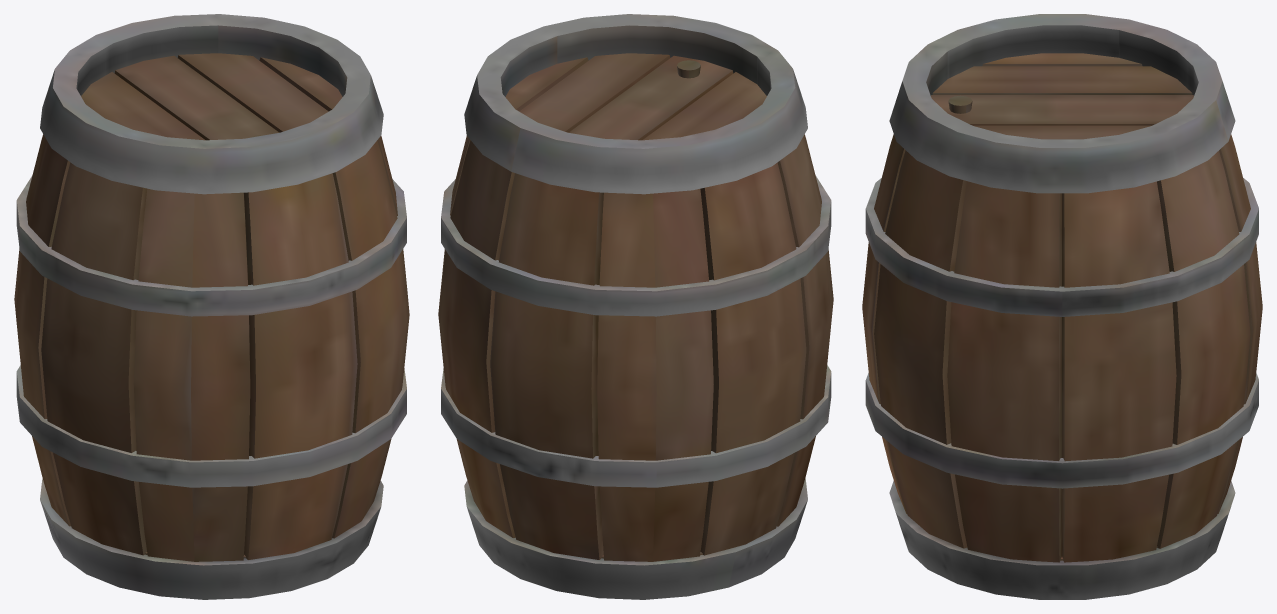
The model's file is SM_cask_01_508124.glb.
3 views of the same model, side by side, from view 1: azimuth 30°, elevation 25°; view 2: azimuth 150°, elevation 25°; view 3: azimuth 270°, elevation 25° (orthographic).
Size of the model in its own units: 1.02 by 1.28 by 1.03.
1 material, 1 textured.
